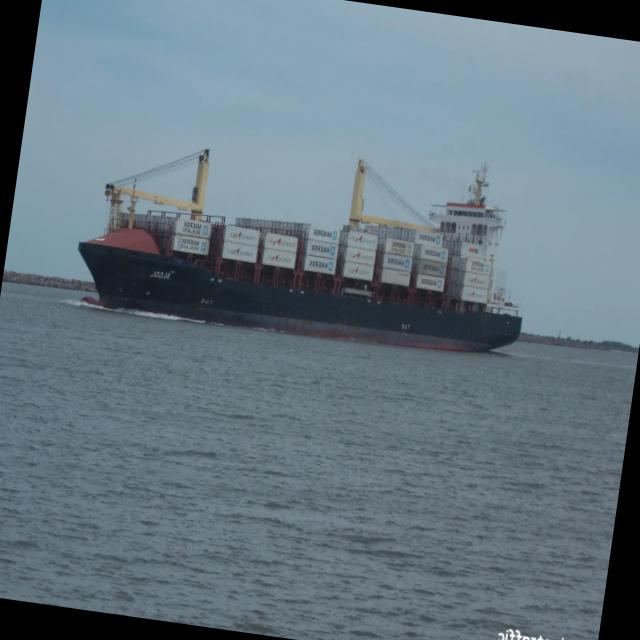Cargo: (79, 149, 522, 352)
